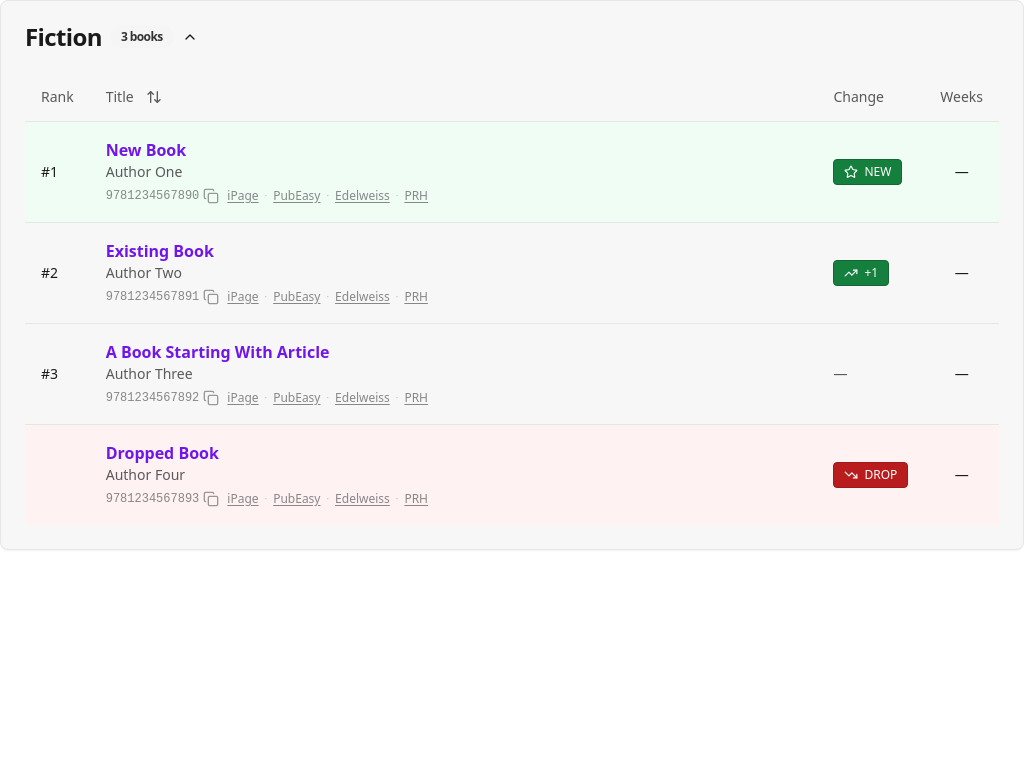
Test: BestsellerTable › sorting › should toggle back to default sort when clicked again
Note: Click to sort by title
Click the button named "Sort by title" at (154, 97), box x1=142 y1=85 x2=166 y2=109
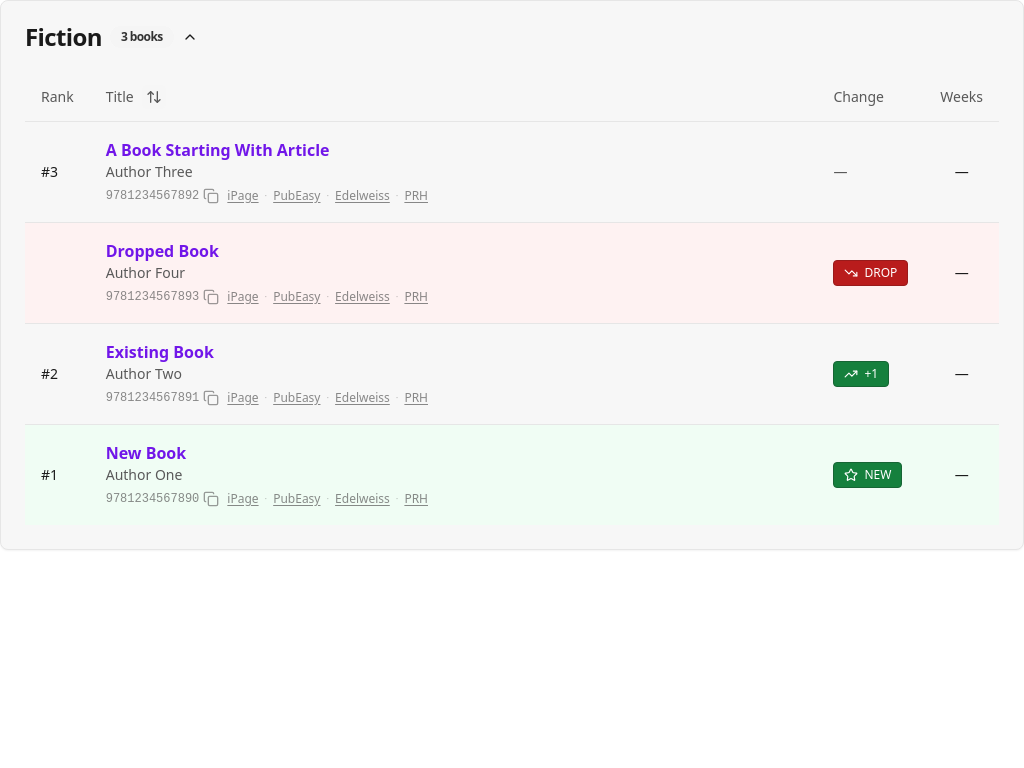
Expected: the row that starts with "A Book Starting With Article" is shown, x1=106 y1=138 x2=801 y2=162
Note: Click again to return to default
Click the button named "Sort by rank" at (154, 97), box x1=142 y1=85 x2=166 y2=109
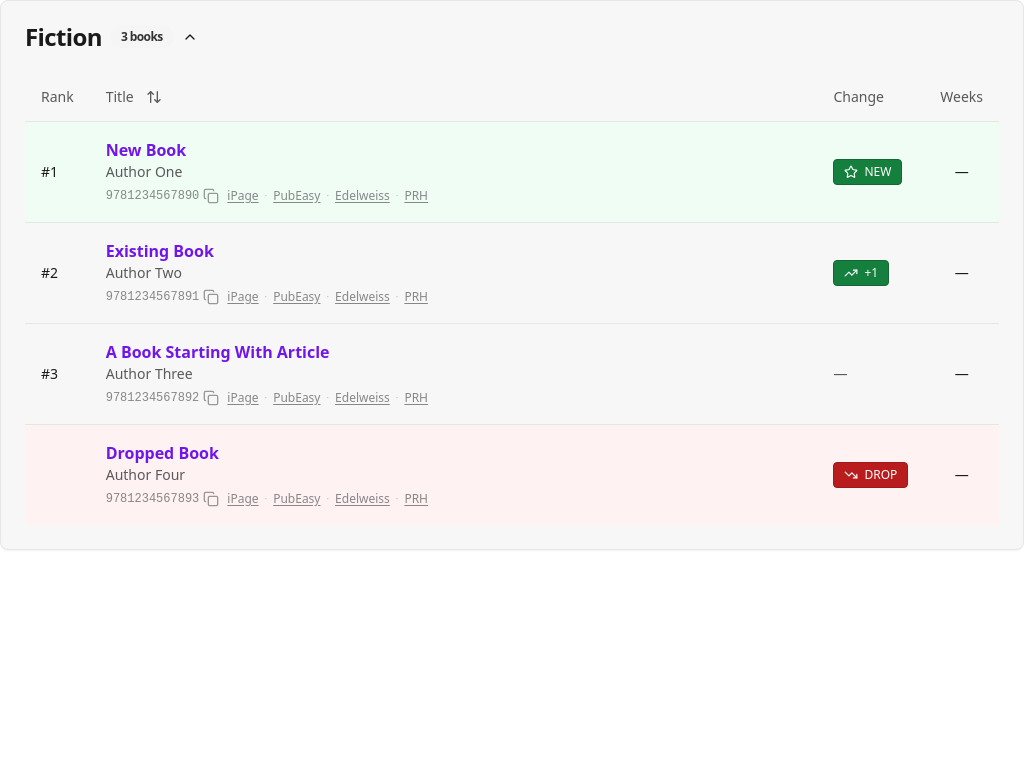
Expected: the row that starts with "New Book" is shown, x1=106 y1=138 x2=801 y2=162
